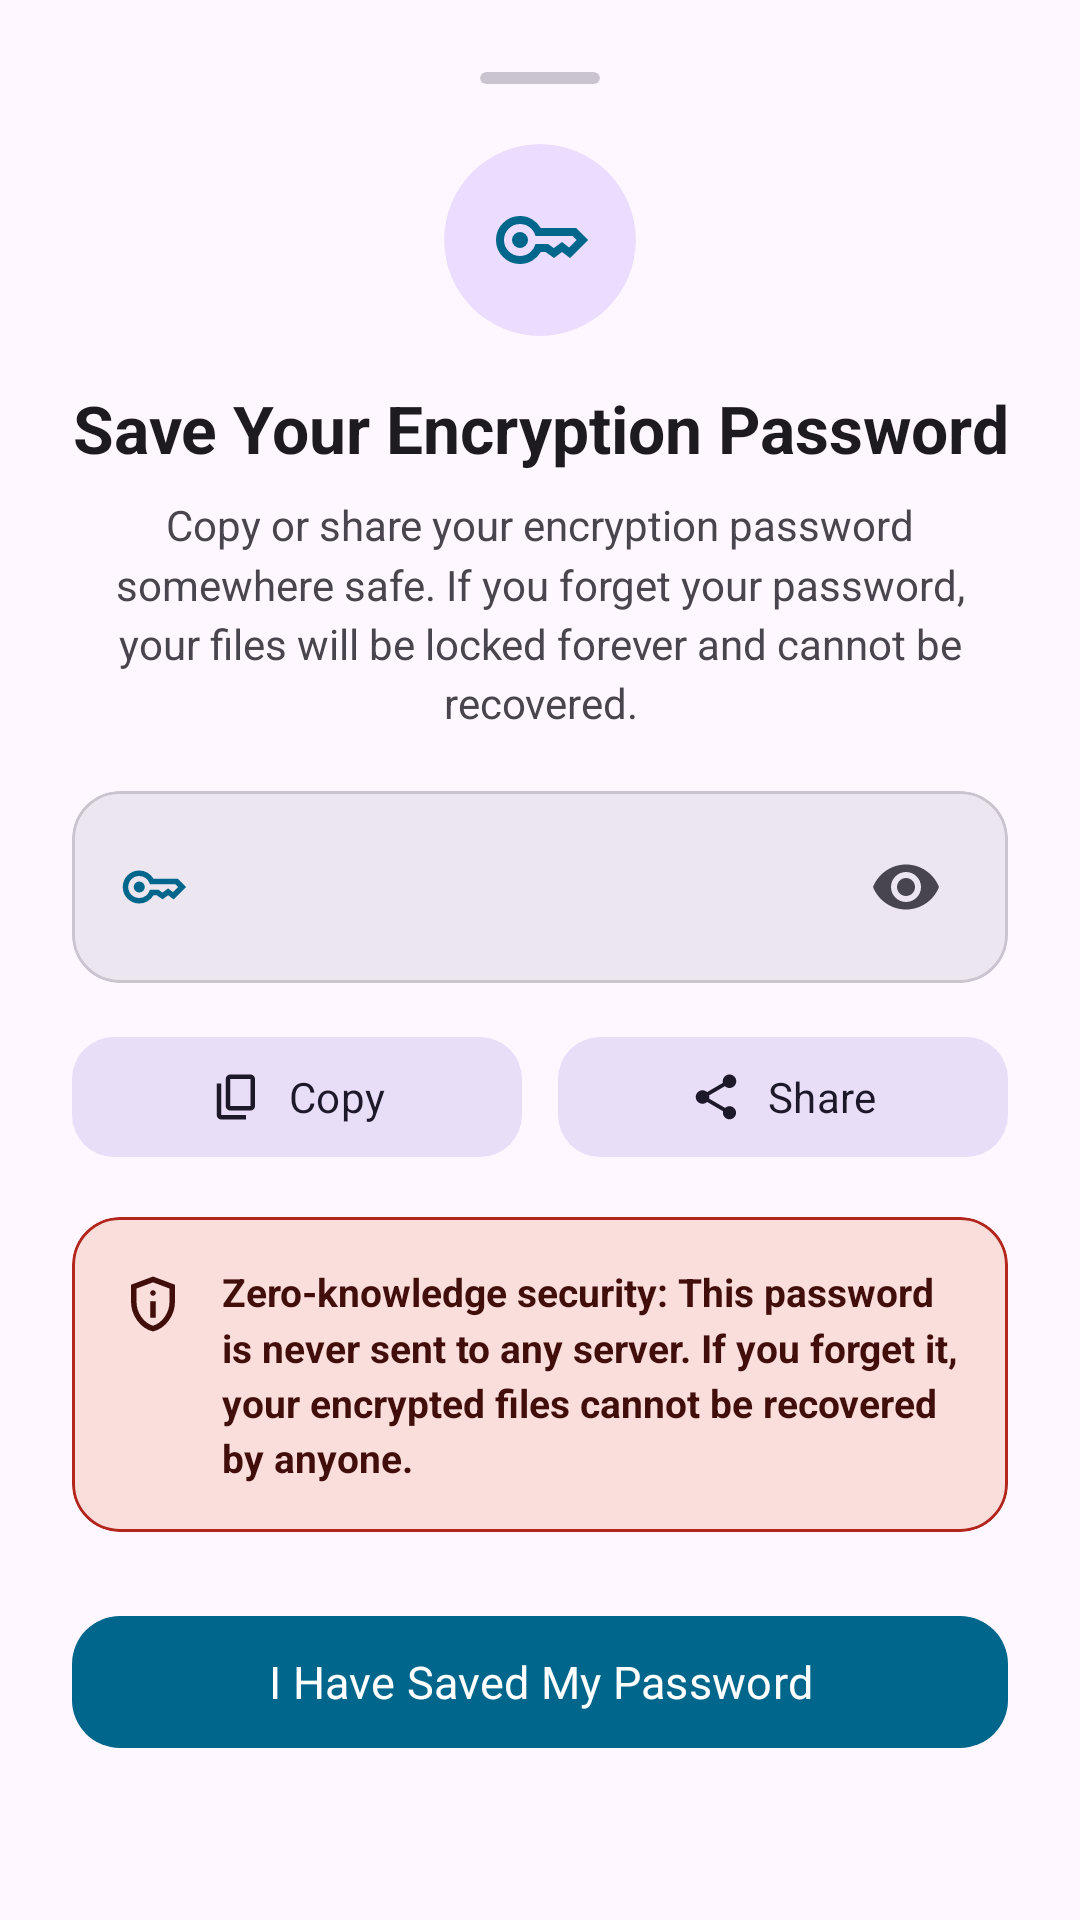

Locate icon controls on the screen. Image size 1080 × 1920, boxes as (x1, y1, x2, y2).
key: (496, 216, 588, 264), (122, 870, 186, 904)
privacy tip: (131, 1276, 175, 1332)
visibility: (873, 864, 939, 910)
